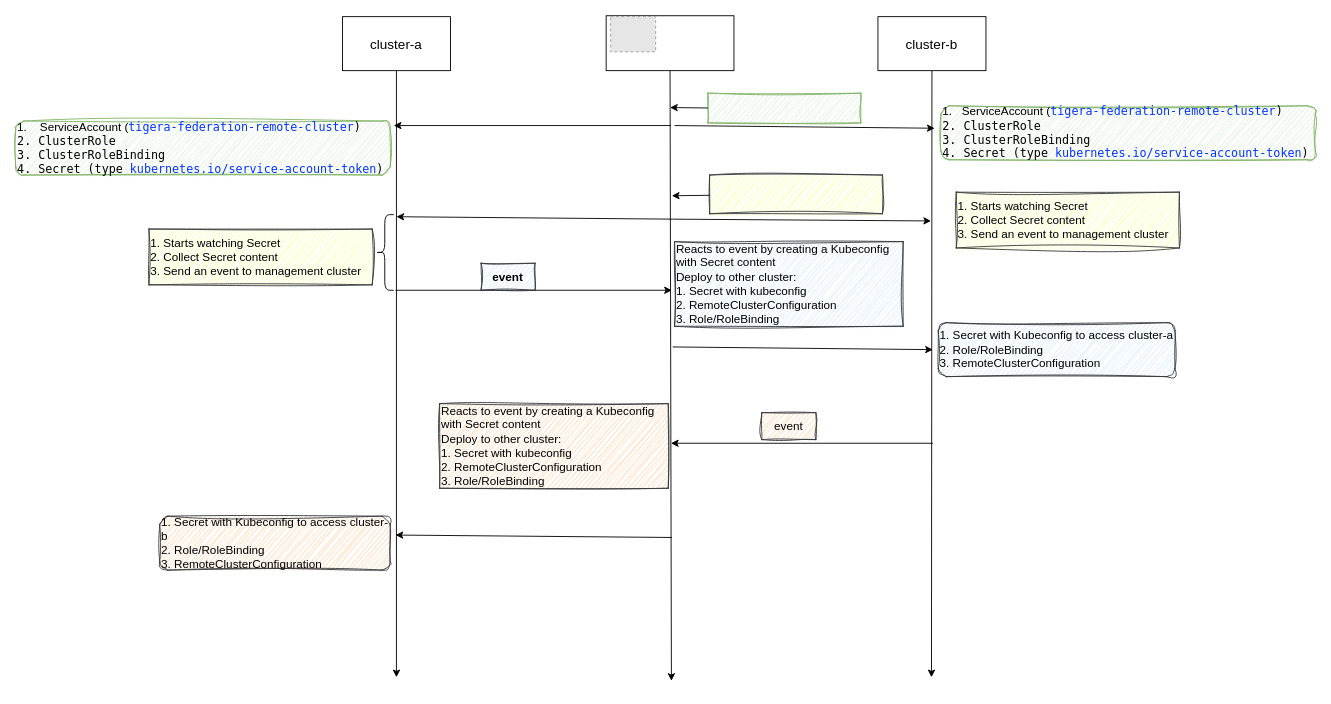
This 1331x704 diagram has some shape labels left out. Grey dashed boxes stand in for pictures. Each missing label, with the box of its shape:
kubectl create ClusterProfile: (707, 92, 861, 123)
kubectl create EventTrigger/EventSource: (709, 174, 882, 214)
management cluster: (605, 15, 734, 71)
